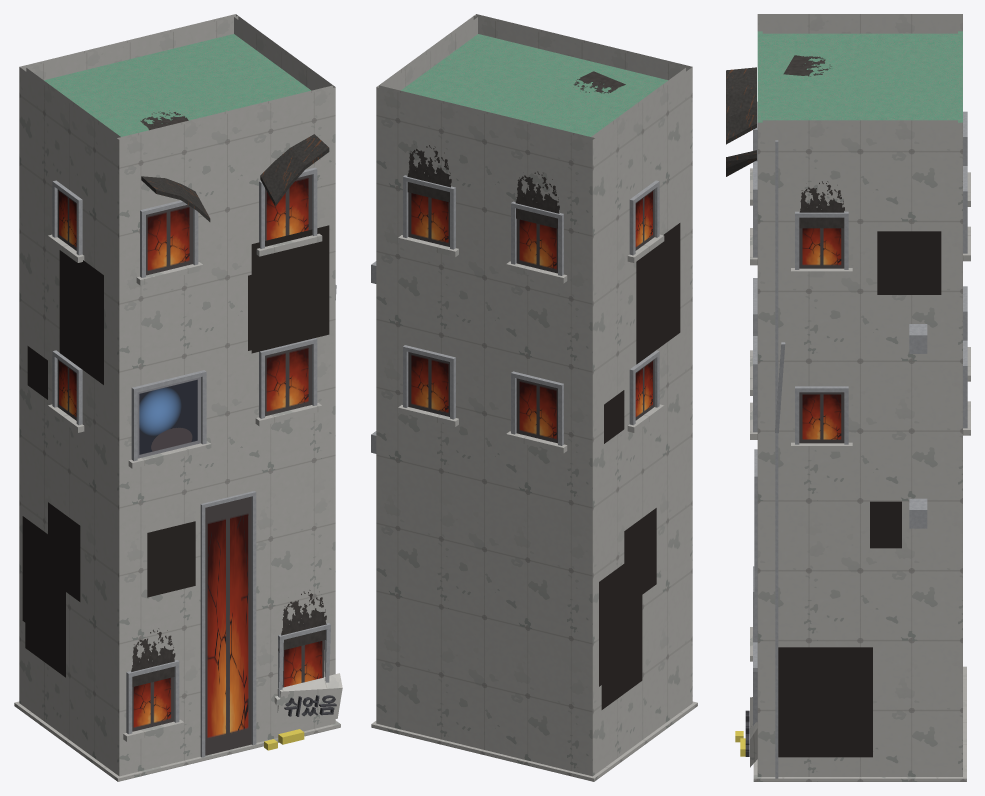
File: Story13_쉬었음_화남.fbx
3 renders of one model, left to right at view 1: azimuth 30°, elevation 25°; view 2: azimuth 150°, elevation 25°; view 3: azimuth 270°, elevation 25°, orthographic. The views are drawn at different scales.
Parts seen in each view (by area): view 1: Story13_쉬었음_화남; view 2: Story13_쉬었음_화남; view 3: Story13_쉬었음_화남.
Part boxes in pixels (x1,y1,x2,y2): Story13_쉬었음_화남: (14, 14, 342, 781); Story13_쉬었음_화남: (371, 14, 697, 781); Story13_쉬었음_화남: (726, 14, 970, 781).
Size of the model in its own units: 2270 by 5650 by 1905.
Materials: 10 (10 with a texture image).
